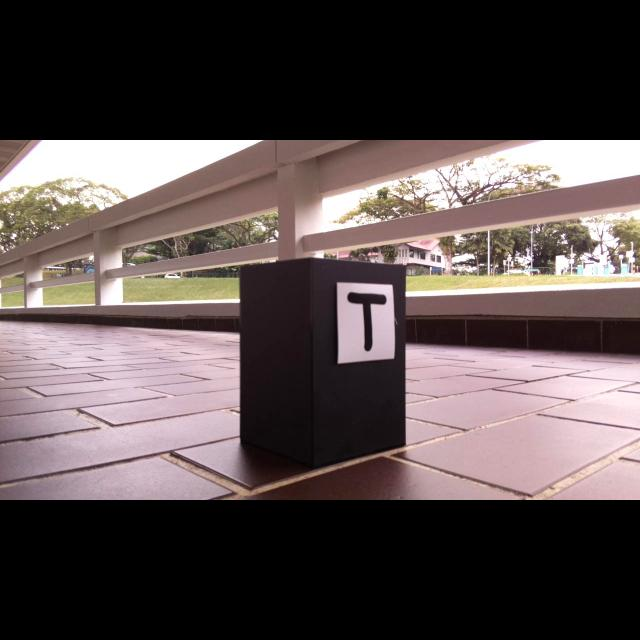T: (347, 292, 386, 351)
